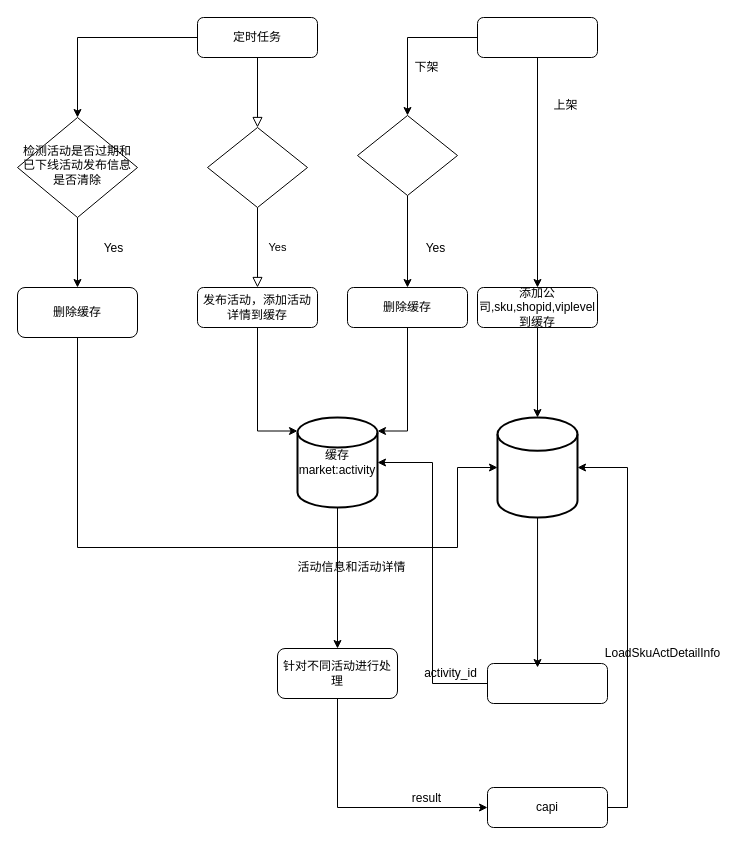
Image size: 745x845. Some labels were removed from this diagram. The centre of each missing label's shape, as x and y in pixels:
"检测是否有活动即将开始" goes at pixel 257 167.
"活动" goes at pixel 537 37.
"活动是否已经发布" goes at pixel 407 155.
"缓存market:company" goes at pixel 537 467.
"获取对应活动id,shopid和viplevel" goes at pixel 547 683.
